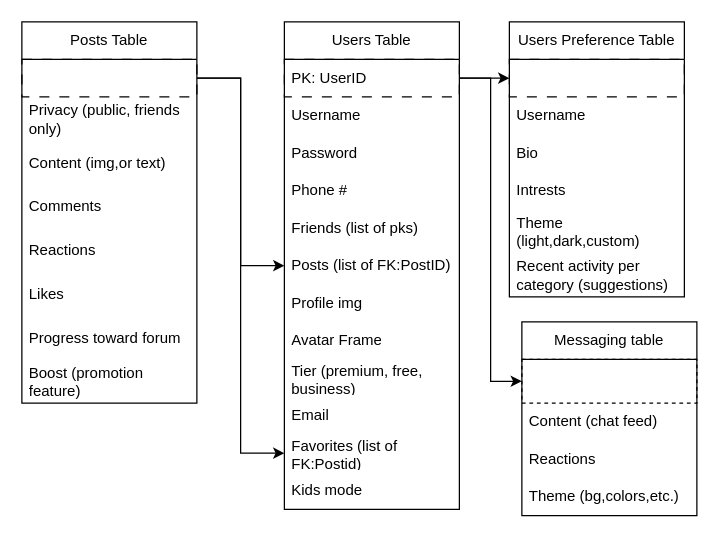
This 719x538 diagram has some shape labels left out. Each missing label, with the centre of its shape:
"FK: UserID" goes at (596,77).
"FK: UserID + UserID (string concatenation)" goes at (609,380).
"PK: PostID" goes at (109,77).
